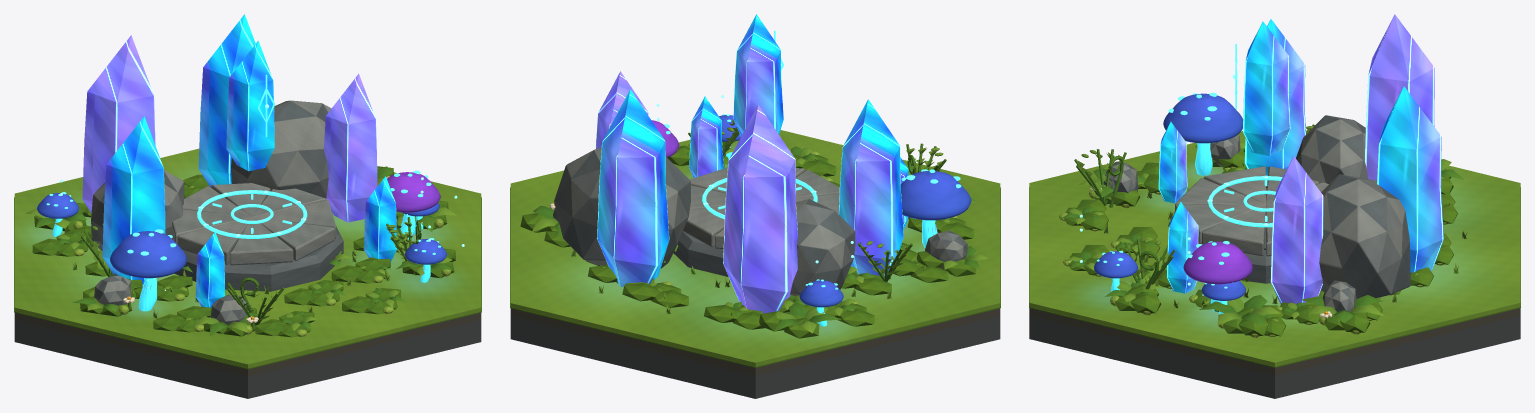
Rendered from hex_crystal_shrine.glb.
3 renders of one model, left to right at view 1: azimuth 30°, elevation 25°; view 2: azimuth 150°, elevation 25°; view 3: azimuth 270°, elevation 25°, orthographic. The views are drawn at different scales.
Visible parts, largest first — view 1: Standard hex meadow top.001, Standard hex stone foundation.001, Faceted magical crystal.004, Faceted magical crystal.002, Faceted magical crystal.006, Angular mossy forest boulder.002, Faceted magical crystal.001, Faceted magical crystal.005, Standard hex earth layer.001, Shrine stone pedestal.001, Broad faceted mushroom cap.001, Faceted magical crystal.007 (+22 smaller); view 2: Standard hex meadow top.001, Faceted magical crystal.004, Standard hex stone foundation.001, Faceted magical crystal.005, Faceted magical crystal.002, Angular mossy forest boulder.002, Angular mossy forest boulder.001, Faceted magical crystal.001, Standard hex earth layer.001, Broad faceted mushroom cap.001, Faceted magical crystal.007, Shrine stone pedestal.001 (+15 smaller); view 3: Standard hex meadow top.001, Standard hex stone foundation.001, Angular mossy forest boulder.002, Faceted magical crystal.005, Faceted magical crystal.006, Faceted magical crystal.004, Faceted magical crystal.001, Standard hex earth layer.001, Angular mossy forest boulder.001, Broad faceted mushroom cap.001, Faceted magical crystal.002, Broad faceted mushroom cap.003 (+18 smaller).
Boxes of the visible parts, x1,y1,x2,y2 form: Standard hex meadow top.001: [14, 148, 481, 368]; Standard hex stone foundation.001: [14, 320, 481, 398]; Faceted magical crystal.004: [82, 35, 155, 213]; Faceted magical crystal.002: [102, 116, 165, 284]; Faceted magical crystal.006: [324, 73, 377, 222]; Angular mossy forest boulder.002: [231, 100, 331, 198]; Faceted magical crystal.001: [226, 40, 274, 171]; Faceted magical crystal.005: [198, 14, 255, 187]; Standard hex earth layer.001: [14, 312, 481, 376]; Shrine stone pedestal.001: [171, 226, 343, 291]; Broad faceted mushroom cap.001: [110, 231, 186, 278]; Faceted magical crystal.007: [363, 176, 396, 262]; Standard hex meadow top.001: [510, 130, 1000, 366]; Faceted magical crystal.004: [723, 105, 797, 313]; Standard hex stone foundation.001: [510, 316, 1000, 398]; Faceted magical crystal.005: [597, 89, 669, 286]; Faceted magical crystal.002: [838, 99, 903, 275]; Angular mossy forest boulder.002: [554, 148, 690, 268]; Angular mossy forest boulder.001: [790, 199, 855, 296]; Faceted magical crystal.001: [733, 14, 783, 136]; Standard hex earth layer.001: [510, 308, 1000, 375]; Broad faceted mushroom cap.001: [900, 171, 971, 220]; Faceted magical crystal.007: [689, 96, 723, 177]; Shrine stone pedestal.001: [673, 231, 728, 276]; Standard hex meadow top.001: [1029, 130, 1520, 366]; Standard hex stone foundation.001: [1029, 316, 1520, 398]; Angular mossy forest boulder.002: [1319, 174, 1410, 298]; Faceted magical crystal.005: [1377, 86, 1443, 272]; Faceted magical crystal.006: [1270, 156, 1323, 303]; Faceted magical crystal.004: [1364, 14, 1434, 180]; Faceted magical crystal.001: [1243, 21, 1290, 155]; Standard hex earth layer.001: [1029, 308, 1520, 375]; Angular mossy forest boulder.001: [1296, 115, 1368, 183]; Broad faceted mushroom cap.001: [1163, 93, 1243, 143]; Faceted magical crystal.002: [1244, 19, 1305, 175]; Broad faceted mushroom cap.003: [1183, 241, 1252, 284].
Size of the model in its own units: 5.11 by 2.59 by 4.42.
Materials: 44 (29 with a texture image).
